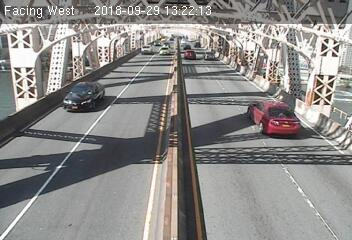car: (248, 100, 302, 139), (64, 79, 108, 111), (139, 43, 154, 56), (202, 49, 218, 60), (183, 49, 195, 61), (160, 45, 171, 56)
